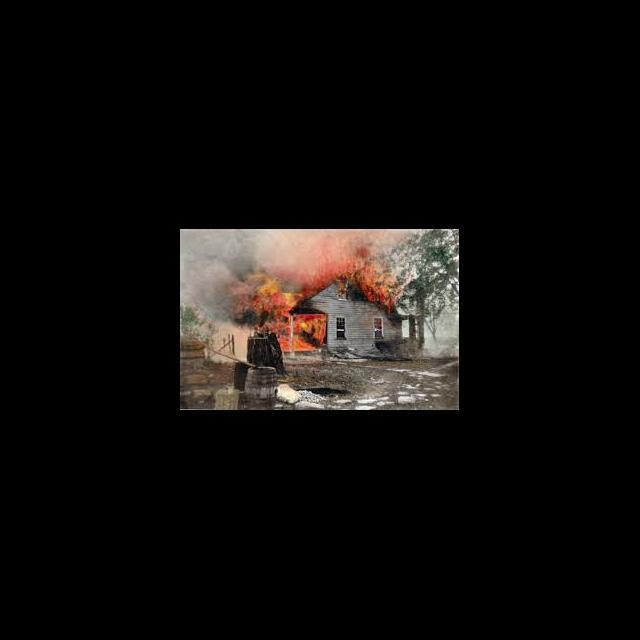Fire: (230, 276, 327, 351), (314, 232, 397, 310)
Smoke: (180, 230, 310, 272), (181, 272, 230, 320), (438, 316, 458, 360)
